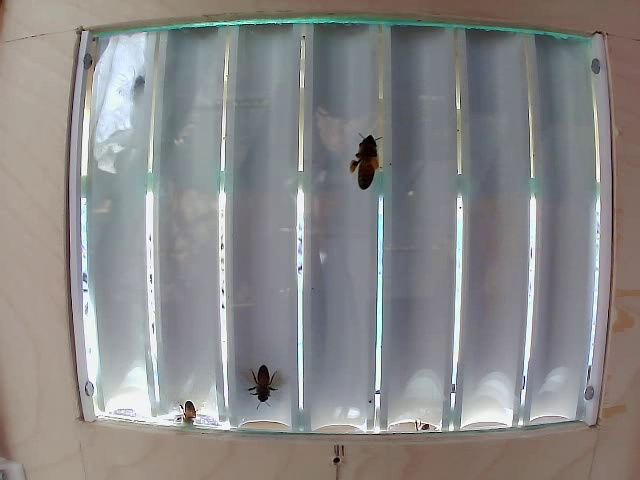bee: (243, 352, 284, 404)
